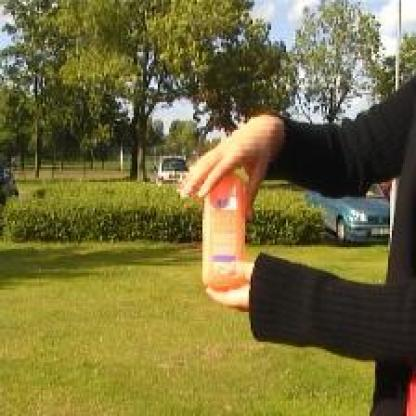other: (177, 168, 259, 301)
